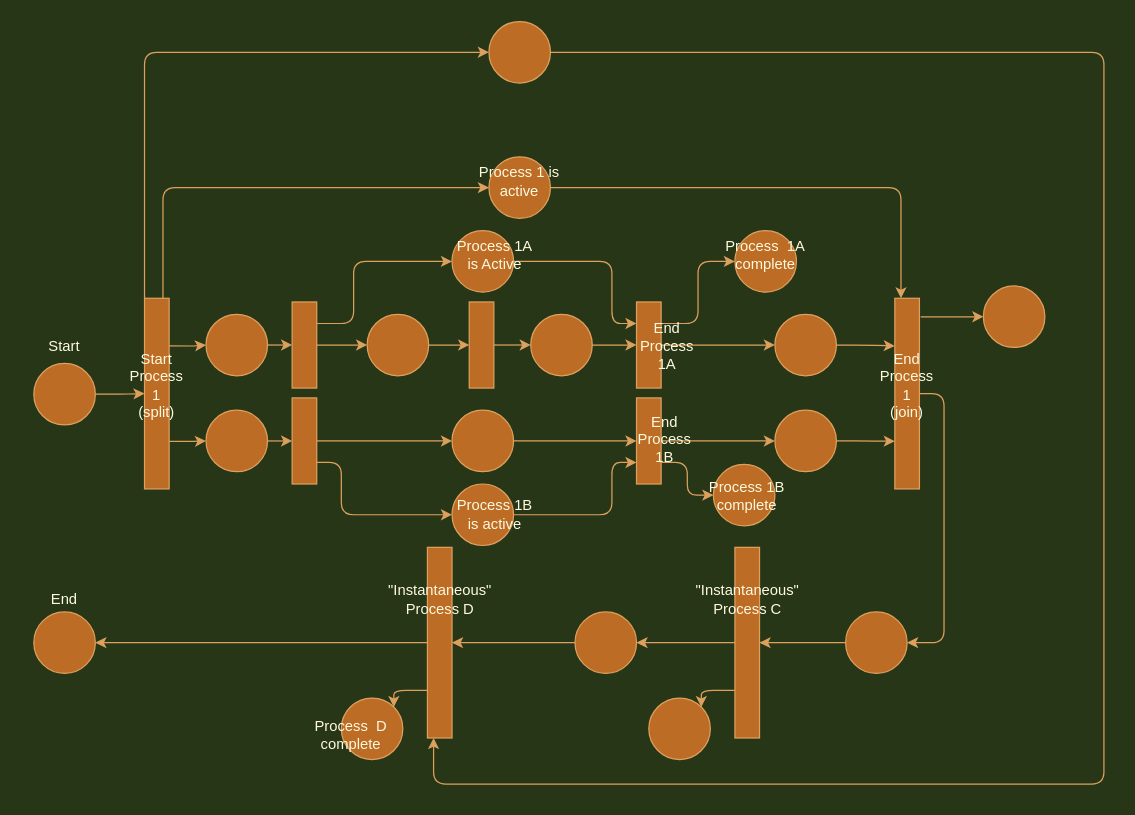
Some shapes in this 1135 by 815 pixel diagram are drawn without their labels. Here are the shapes that lost their labels. From the top down, the centre of each, then its label:
point (519, 51): Petri Net is active
point (1013, 316): Process 1 is complete
point (304, 344): Start Process 1A
point (304, 440): Start Process 1B
point (679, 728): Process C complete
